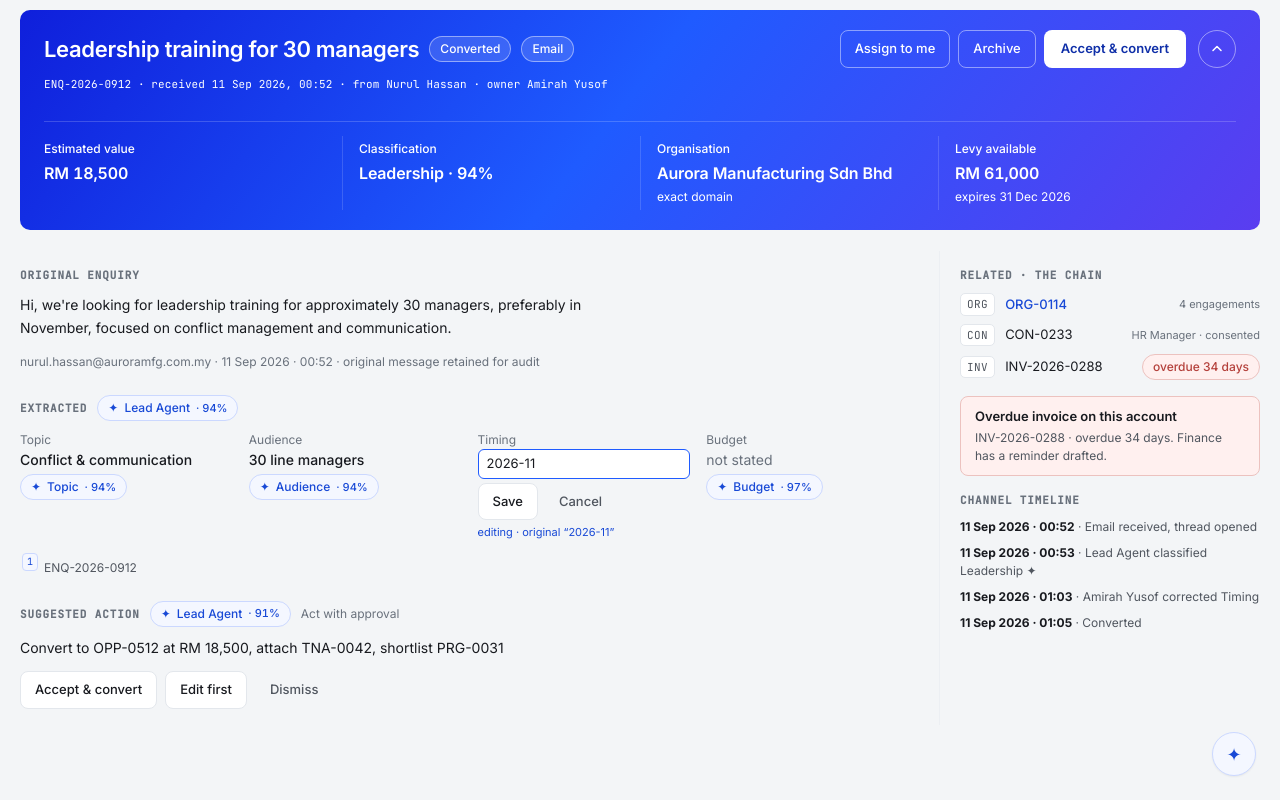
M03-S02 · enquiry detail › opens the field a human has already corrected, and saves a new value through the patch
Replace the text in the field named "Timing value" with "2026-12": (584, 464) [478,449,690,479]
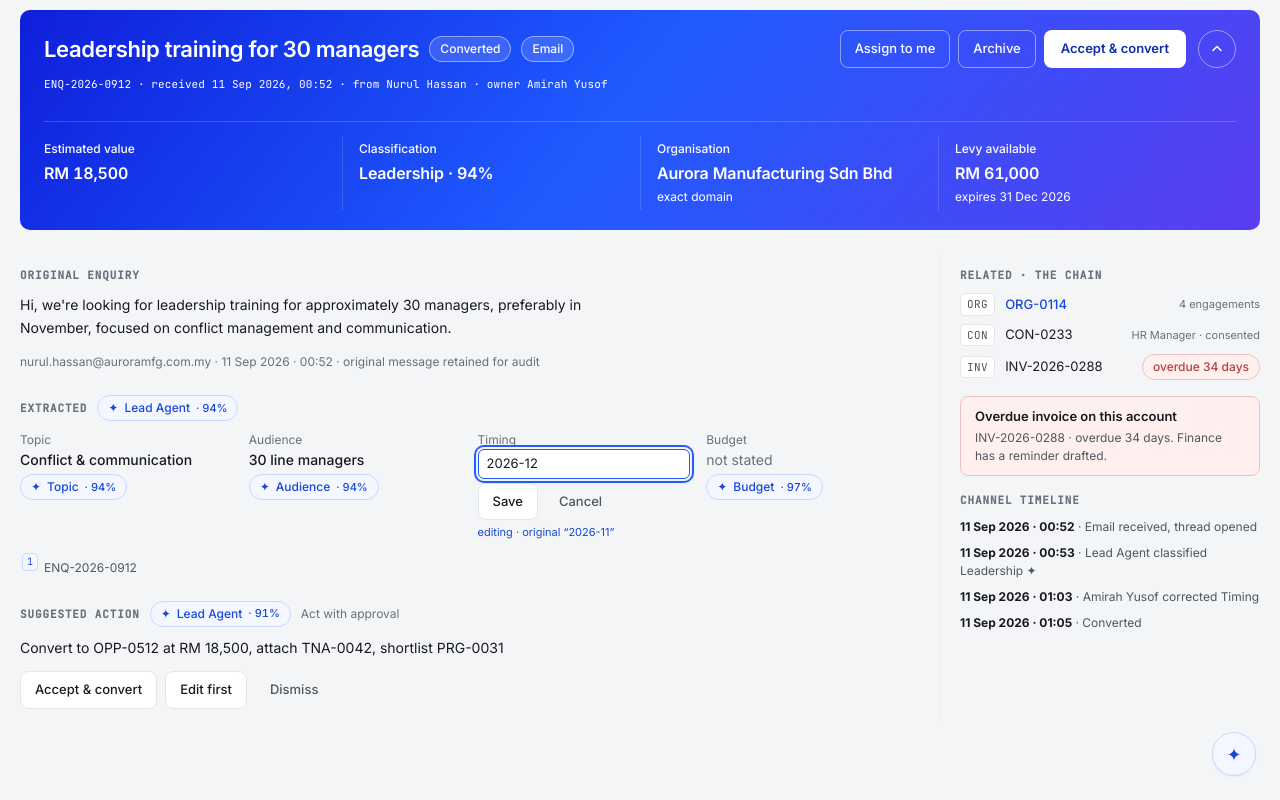
Click the button "Save": (508, 501) [478,483,538,520]
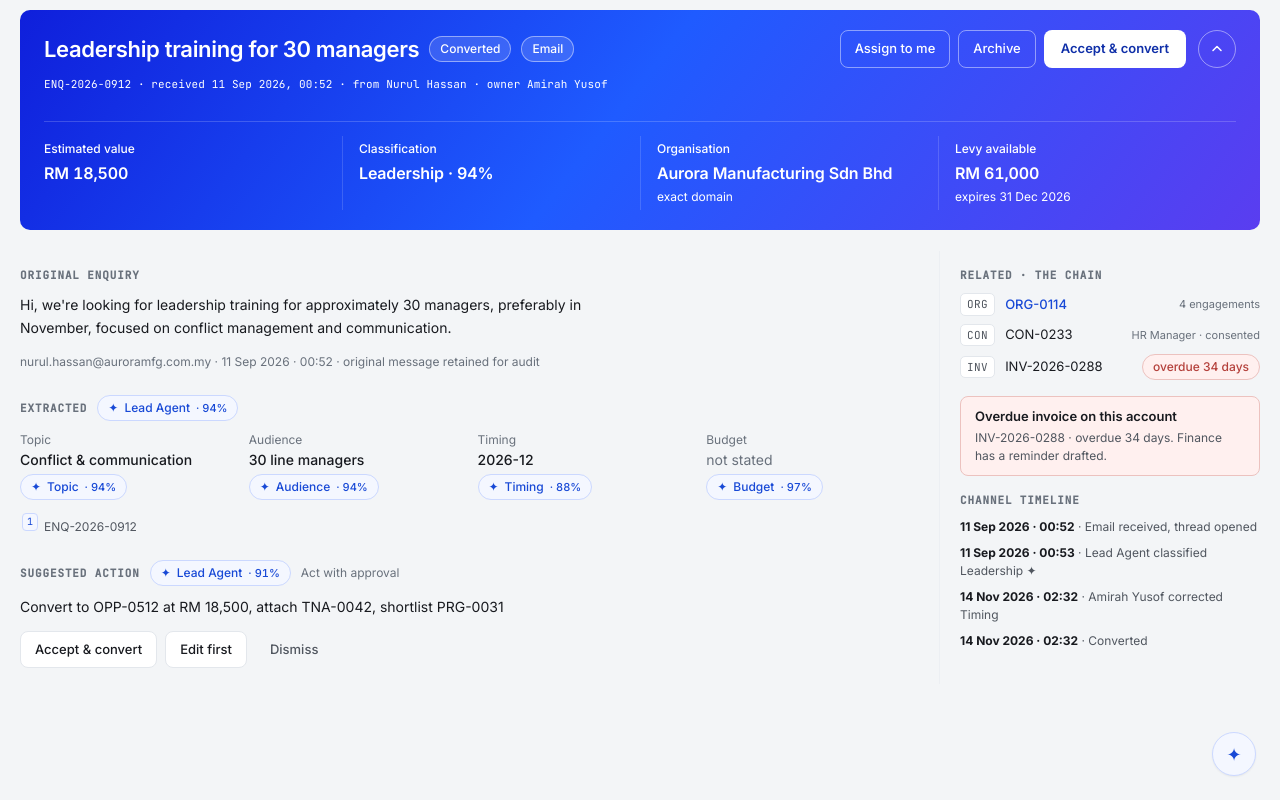
Result: the button named "Edit Timing" reads "2026-12" at [478,449,534,470]
